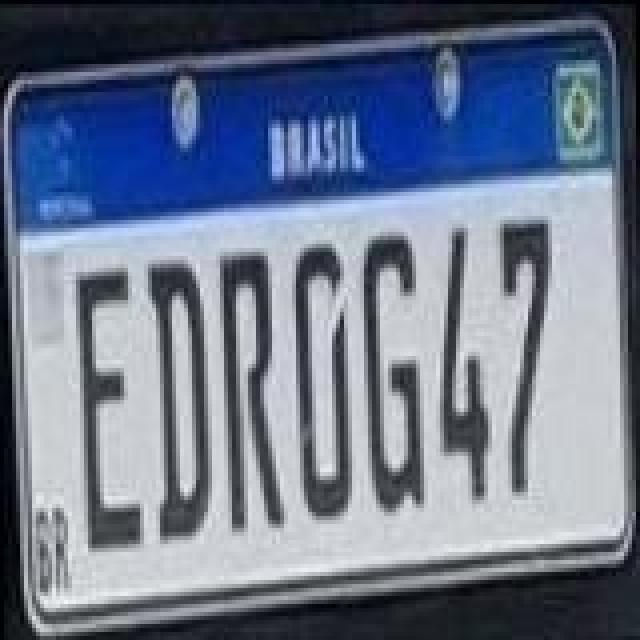4: (434, 222, 494, 506)
7: (500, 216, 556, 496)
D: (144, 254, 212, 546), (292, 238, 352, 526)
E: (76, 264, 144, 552)
G: (358, 228, 426, 508)
R: (216, 250, 284, 534)
